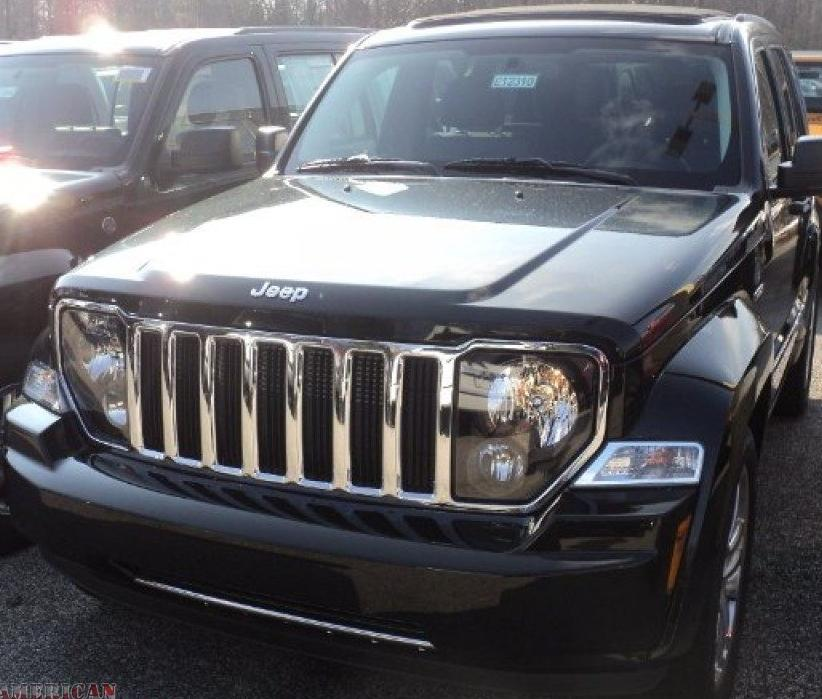front_view: (2, 284, 707, 665)
headlight: (445, 343, 702, 517)
